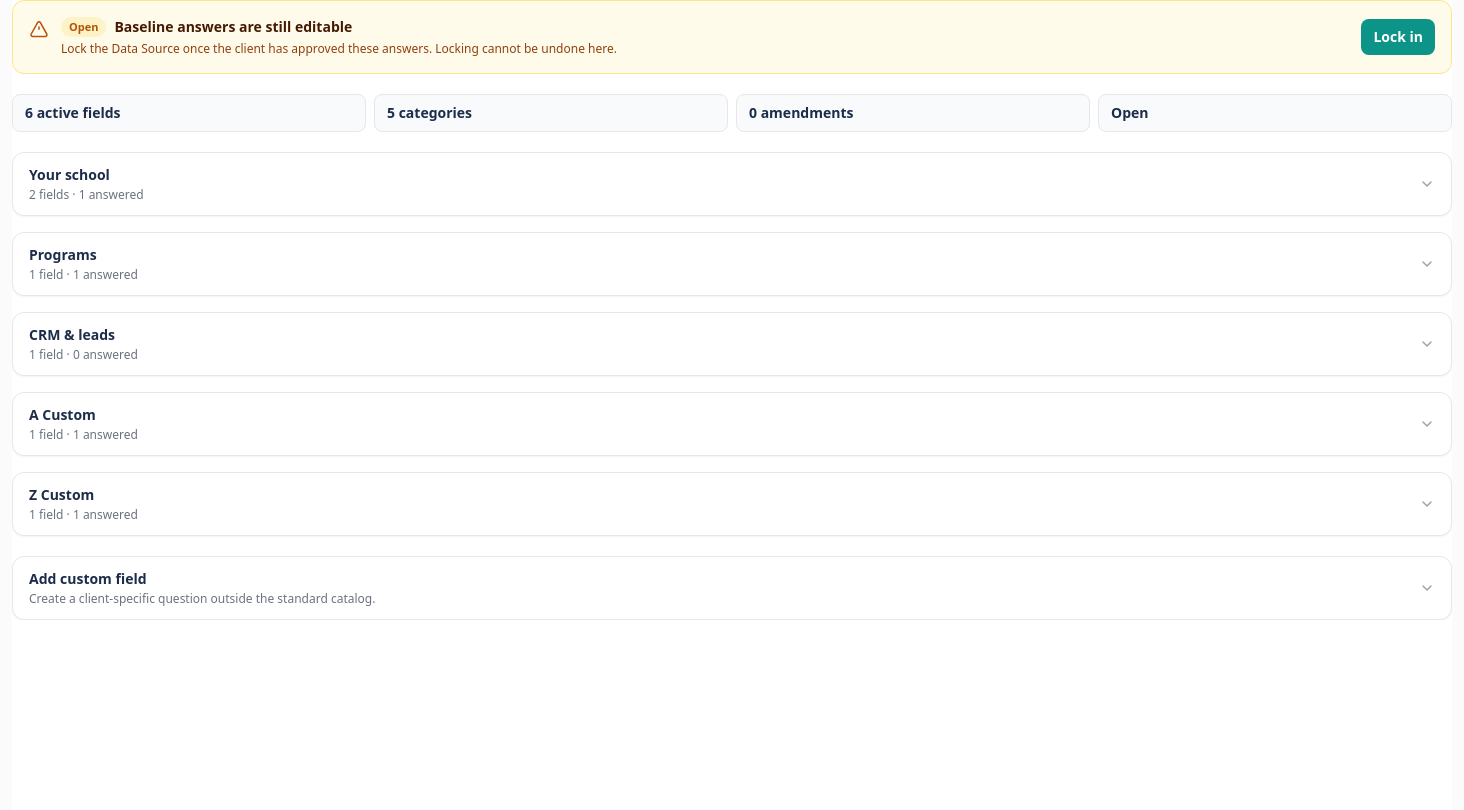
Test: DataSourceTab › orders and labels catalog categories before alphabetized unknowns, collapsed with answer counts
The width and height of the screenshot is (1464, 810).
Click the button "Your school 2 fields · 1 answered".
click(69, 174)  # box top-left (13, 153), bottom-right (1451, 215)
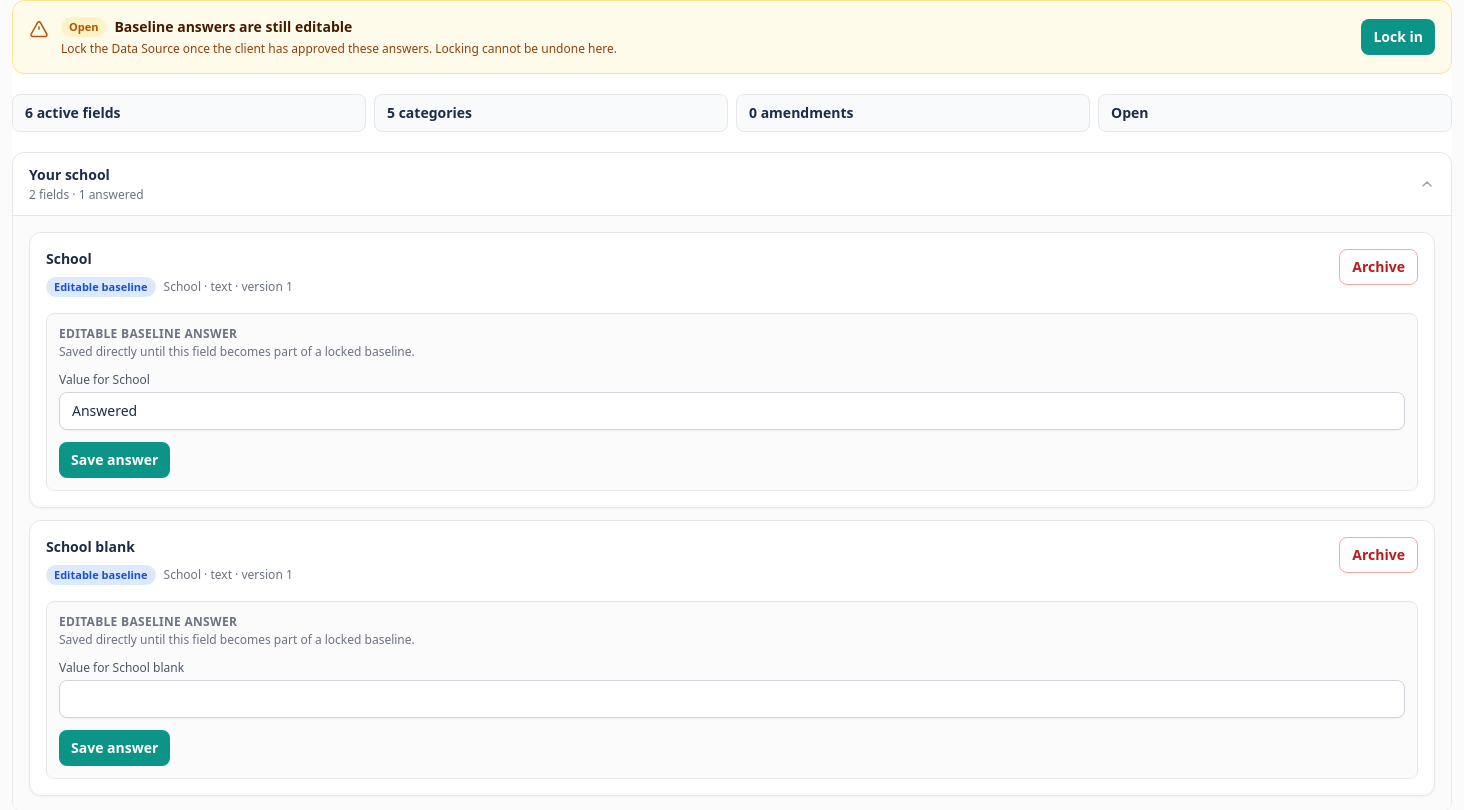
Result: the button "Your school 2 fields · 1 answered" is expanded at top-left (13, 153), bottom-right (1451, 215)
Result: the heading "School blank" is shown at top-left (46, 537), bottom-right (135, 556)
